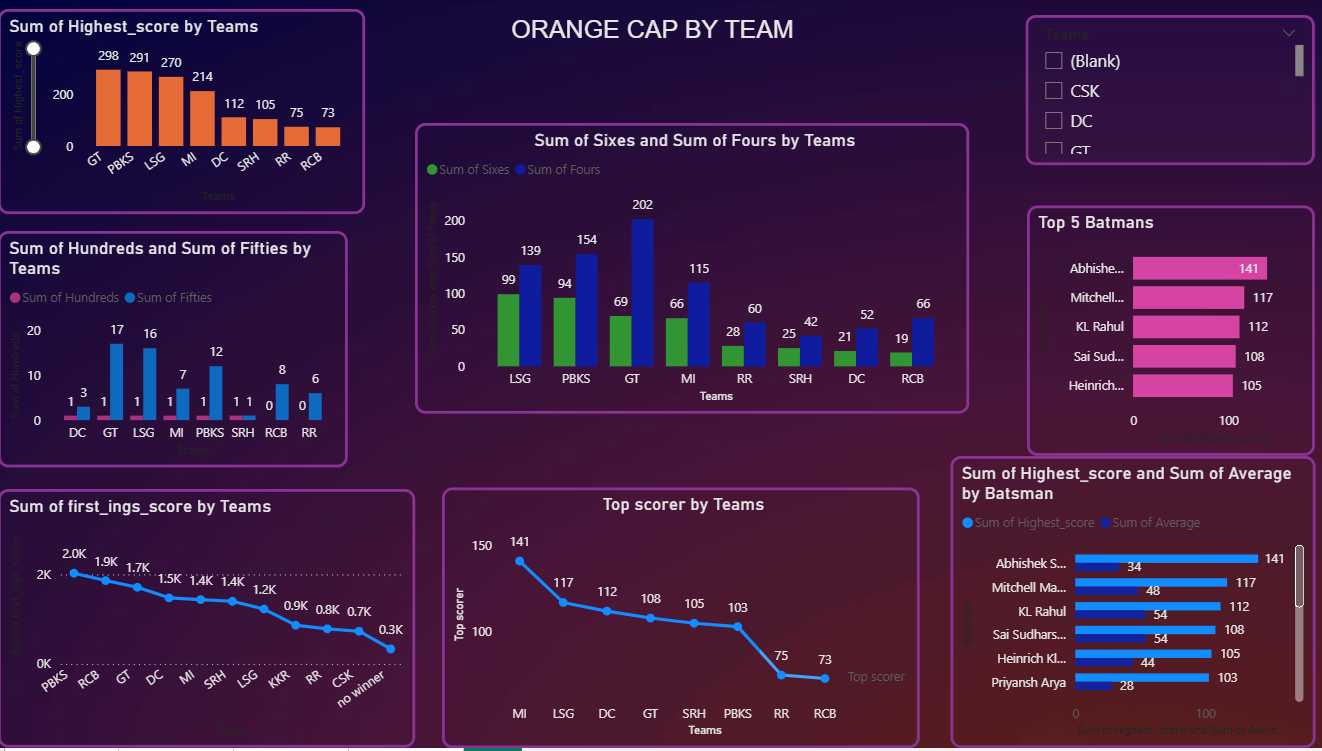

This screenshot's page, from the dashboard's own definition file:
{"tool":"powerbi","page":{"name":"Page 3","canvas":[1280,720],"ordinal":2},"visuals":[{"type":"clusteredColumnChart","fields":{"Category":["Matches (2).match_winner"],"Y":["orange_cap2.Highest_score"]},"box":[0,11.7,351.7,196.7],"z":0},{"type":"slicer","fields":{"Values":["Matches (2).match_winner"]},"box":[985.7,16.7,277.1,143.8],"z":1000},{"type":"clusteredColumnChart","fields":{"Category":["Matches (2).match_winner"],"Y":["orange_cap2.Hundreds","orange_cap2.Fifties"]},"box":[0,225,335,226.7],"z":2000},{"type":"clusteredColumnChart","fields":{"Category":["Matches (2).match_winner"],"Y":["orange_cap2.Sixes","orange_cap2.Fours"]},"box":[399.8,121.1,531.5,278.6],"z":3000},{"type":"clusteredBarChart","fields":{"Category":["orange_cap2.Batsman"],"Y":["orange_cap2.Highest_score","orange_cap2.Average"]},"box":[913.1,440.6,349.8,280.1],"z":4000},{"type":"lineChart","fields":{"Category":["Matches (2).match_winner"],"Y":["Matches.first_ings_score"]},"box":[0,472,400,248],"z":5000},{"type":"textbox","box":[426.7,11.7,473.3,48.3],"z":6000},{"type":"lineChart","fields":{"Y":["orange_cap2.Top scorer"],"Category":["Matches (2).match_winner"]},"box":[426,470,458,250],"z":7000},{"type":"barChart","title":"Top 5 Batmans","fields":{"Category":["orange_cap2.Batsman"],"Y":["orange_cap2.Highest_score"]},"box":[986,200,276,240],"z":8000}]}

Visuals, with their boxes in screenshot pixels (x1, y1, x2, y2), scaled from the page's 1280x720 canvas onto the 1322x751 screenshot:
clusteredColumnChart - Matches (2).match_winner x orange_cap2.Highest_score: rect(0, 12, 363, 217)
slicer - Matches (2).match_winner: rect(1018, 17, 1304, 167)
clusteredColumnChart - Matches (2).match_winner x orange_cap2.Hundreds: rect(0, 235, 346, 471)
clusteredColumnChart - Matches (2).match_winner x orange_cap2.Sixes: rect(413, 126, 962, 417)
clusteredBarChart - orange_cap2.Batsman x orange_cap2.Highest_score: rect(943, 460, 1304, 750)
lineChart - Matches (2).match_winner x Matches.first_ings_score: rect(0, 492, 413, 750)
textbox: rect(441, 12, 930, 63)
lineChart - orange_cap2.Top scorer x Matches (2).match_winner: rect(440, 490, 913, 750)
"Top 5 Batmans" barChart: rect(1018, 209, 1303, 459)
